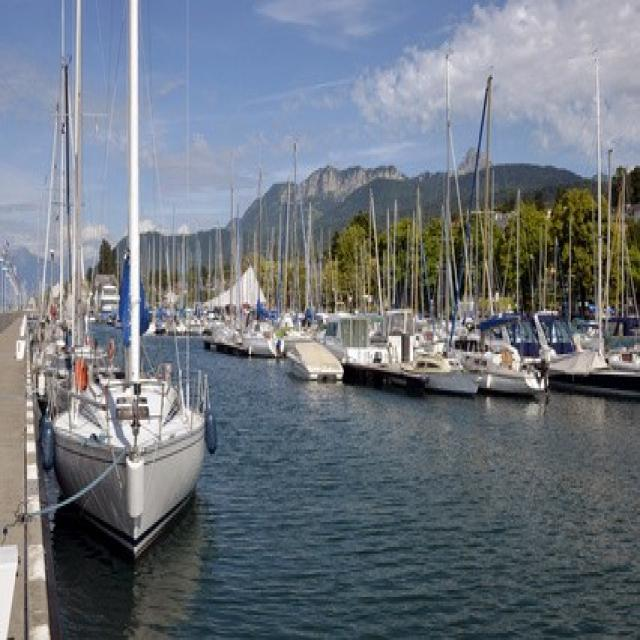fishing boat: (50, 328, 207, 560)
